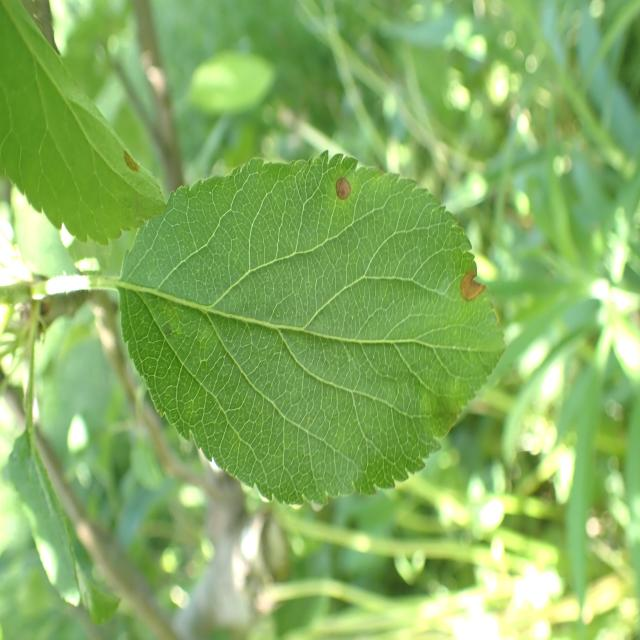Black Rot: (456, 247, 488, 313), (329, 165, 360, 222)
